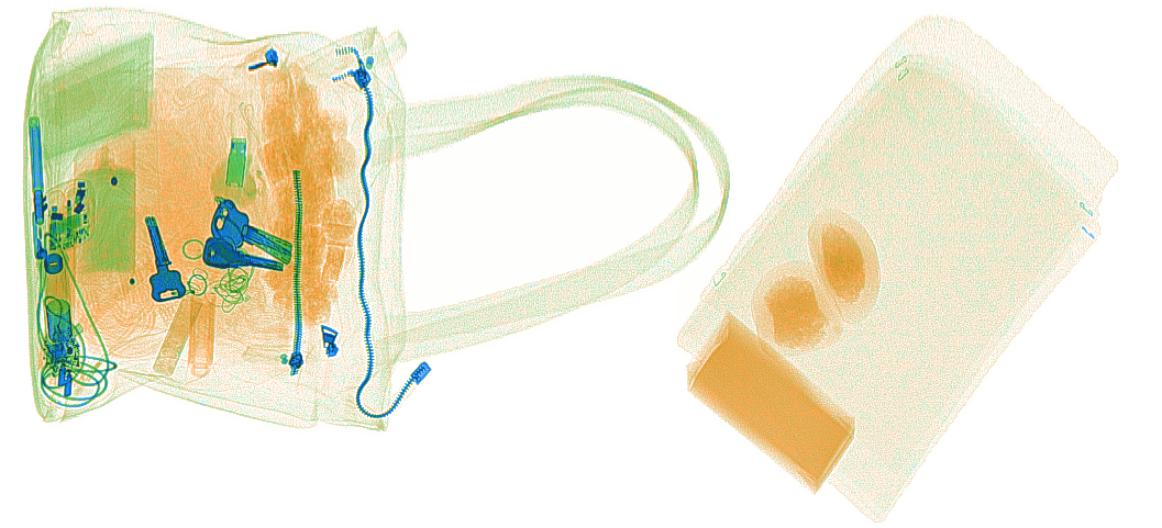USBFlashDisk: (220, 130, 248, 188)
